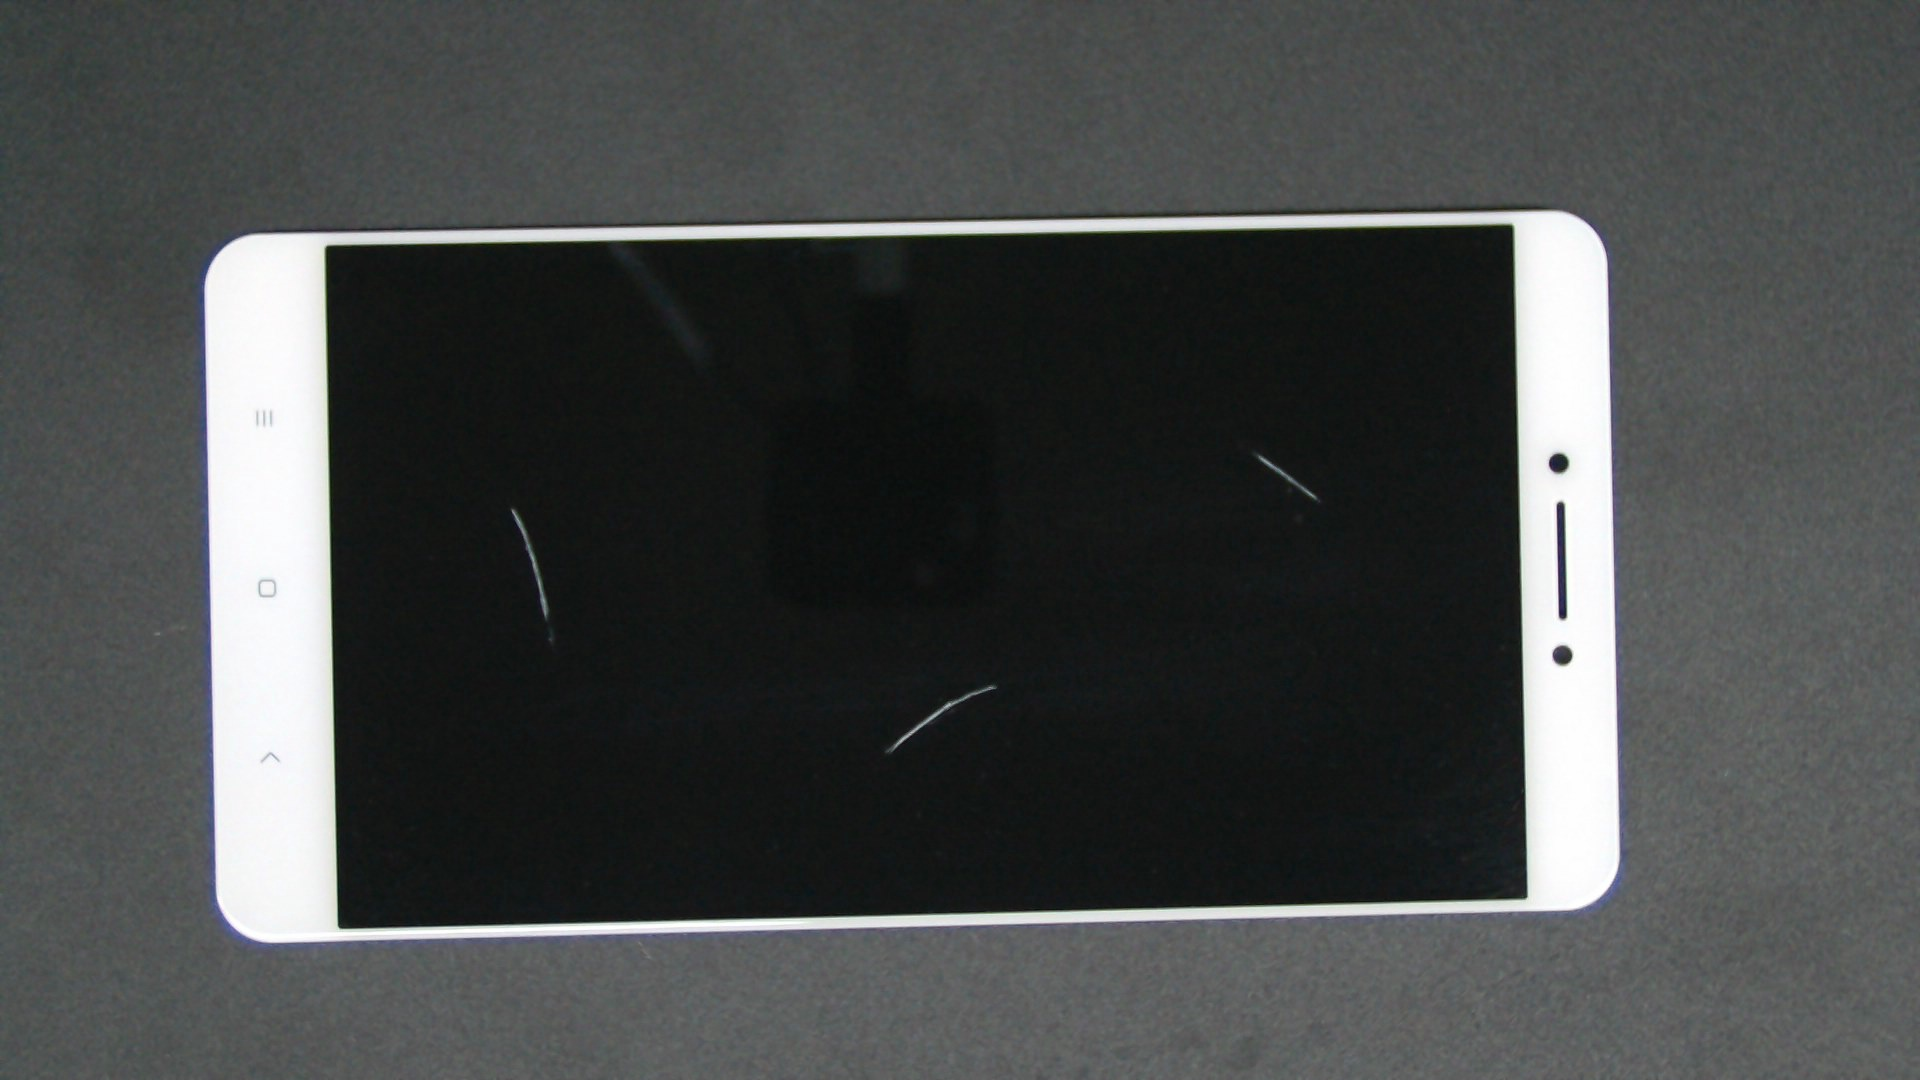oil: (493, 342, 1481, 1026), (628, 225, 1880, 679), (255, 252, 765, 762)
